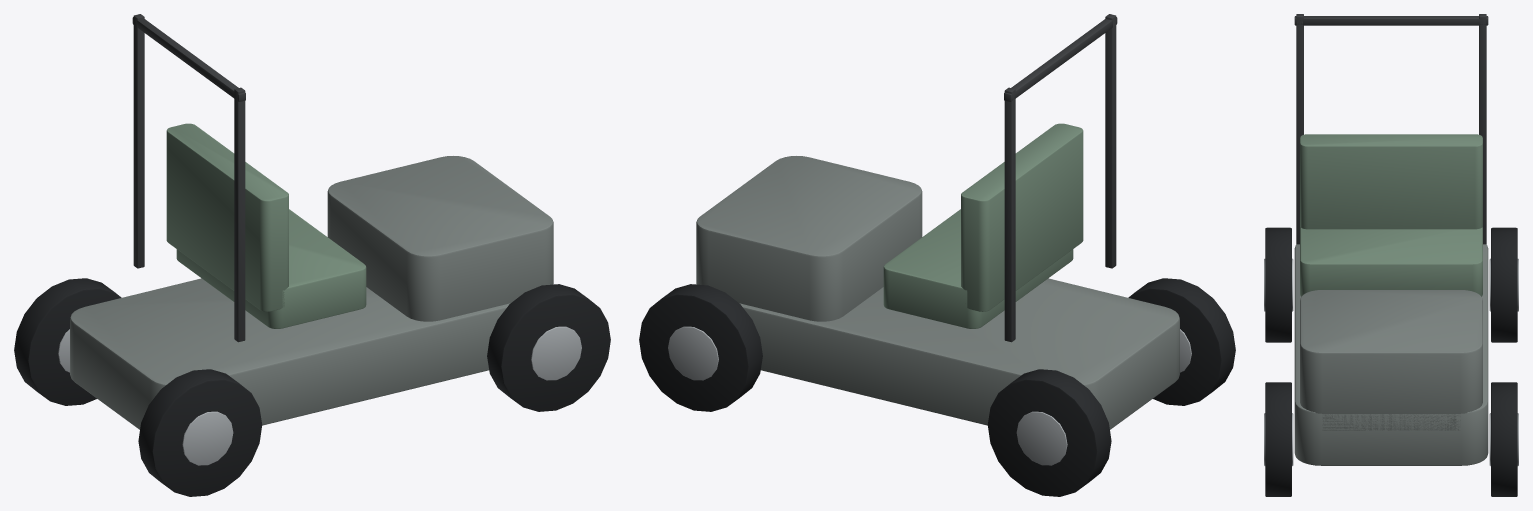
Rendered from golf_cart_municipal.glb.
3 views of the same model, side by side, from view 1: azimuth 30°, elevation 25°; view 2: azimuth 150°, elevation 25°; view 3: azimuth 270°, elevation 25° (orthographic). The views are drawn at different scales.
Parts seen in each view (by area): view 1: GolfCart_Chassis, GolfCart_Hood, GolfCart_SeatBack_1, CartWheel_Front_L_Tire, CartWheel_Rear_L_Tire, GolfCart_Seat_1, CartWheel_Rear_R_Tire, Municipal_RollBar_L, Municipal_RollBar_R, CartWheel_Rear_L_Hub, CartWheel_Front_L_Hub, Municipal_RollBarTop; view 2: GolfCart_Chassis, GolfCart_Hood, GolfCart_SeatBack_1, CartWheel_Front_R_Tire, CartWheel_Rear_R_Tire, GolfCart_Seat_1, CartWheel_Rear_L_Tire, Municipal_RollBar_R, Municipal_RollBar_L, CartWheel_Rear_R_Hub, CartWheel_Front_R_Hub, Municipal_RollBarTop; view 3: GolfCart_Hood, GolfCart_SeatBack_1, GolfCart_Chassis, GolfCart_Seat_1, CartWheel_Rear_L_Tire, CartWheel_Rear_R_Tire, CartWheel_Front_L_Tire, CartWheel_Front_R_Tire, Municipal_RollBarTop, Municipal_RollBar_L, Municipal_RollBar_R.
Boxes of the visible parts, <box> form: GolfCart_Chassis: <box>70,278,510,429</box>; GolfCart_Hood: <box>327,156,553,321</box>; GolfCart_SeatBack_1: <box>166,123,288,311</box>; CartWheel_Front_L_Tire: <box>487,284,610,411</box>; CartWheel_Rear_L_Tire: <box>138,369,262,496</box>; GolfCart_Seat_1: <box>176,209,366,328</box>; CartWheel_Rear_R_Tire: <box>14,278,121,405</box>; Municipal_RollBar_L: <box>234,87,245,342</box>; Municipal_RollBar_R: <box>133,14,144,268</box>; CartWheel_Rear_L_Hub: <box>182,411,233,465</box>; CartWheel_Front_L_Hub: <box>531,326,581,380</box>; Municipal_RollBarTop: <box>132,17,245,101</box>; GolfCart_Chassis: <box>739,278,1179,429</box>; GolfCart_Hood: <box>696,156,922,321</box>; GolfCart_SeatBack_1: <box>961,123,1083,311</box>; CartWheel_Front_R_Tire: <box>639,284,762,411</box>; CartWheel_Rear_R_Tire: <box>987,369,1111,496</box>; GolfCart_Seat_1: <box>883,209,1073,328</box>; CartWheel_Rear_L_Tire: <box>1128,278,1235,405</box>; Municipal_RollBar_R: <box>1004,87,1015,342</box>; Municipal_RollBar_L: <box>1105,14,1116,268</box>; CartWheel_Rear_R_Hub: <box>1016,411,1067,465</box>; CartWheel_Front_R_Hub: <box>668,326,718,380</box>; Municipal_RollBarTop: <box>1004,17,1117,101</box>; GolfCart_Hood: <box>1300,290,1482,430</box>; GolfCart_SeatBack_1: <box>1300,134,1482,229</box>; GolfCart_Chassis: <box>1294,244,1488,465</box>; GolfCart_Seat_1: <box>1300,227,1482,296</box>; CartWheel_Rear_L_Tire: <box>1265,227,1291,342</box>; CartWheel_Rear_R_Tire: <box>1491,227,1517,342</box>; CartWheel_Front_L_Tire: <box>1265,382,1291,496</box>; CartWheel_Front_R_Tire: <box>1491,382,1517,496</box>; Municipal_RollBarTop: <box>1294,16,1488,25</box>; Municipal_RollBar_L: <box>1296,14,1303,244</box>; Municipal_RollBar_R: <box>1479,14,1486,244</box>.
Size of what is drawn, in the model's own units: 2.15 by 1.7 by 1.14.
